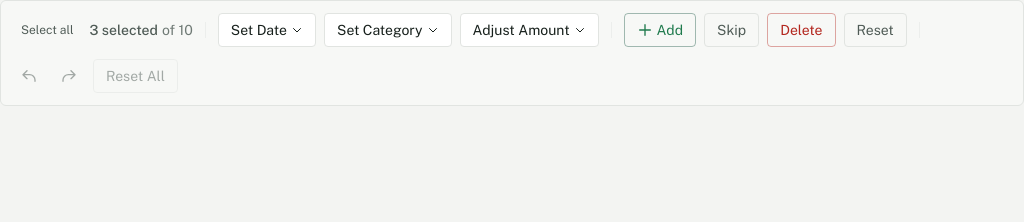
Test case: BulkEditToolbar › Bulk Edit Dropdowns › opens category dropdown when Set Category clicked
The width and height of the screenshot is (1024, 222).
Click the button "Set Category" at x=388, y=30, box [324, 13, 452, 47]
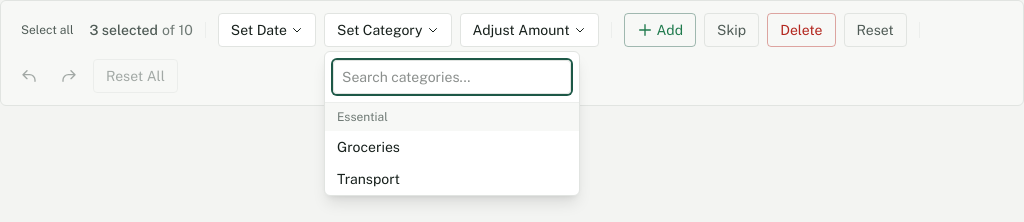
Now the field with placeholder "Search categories..." is shown, box [333, 60, 571, 94]
